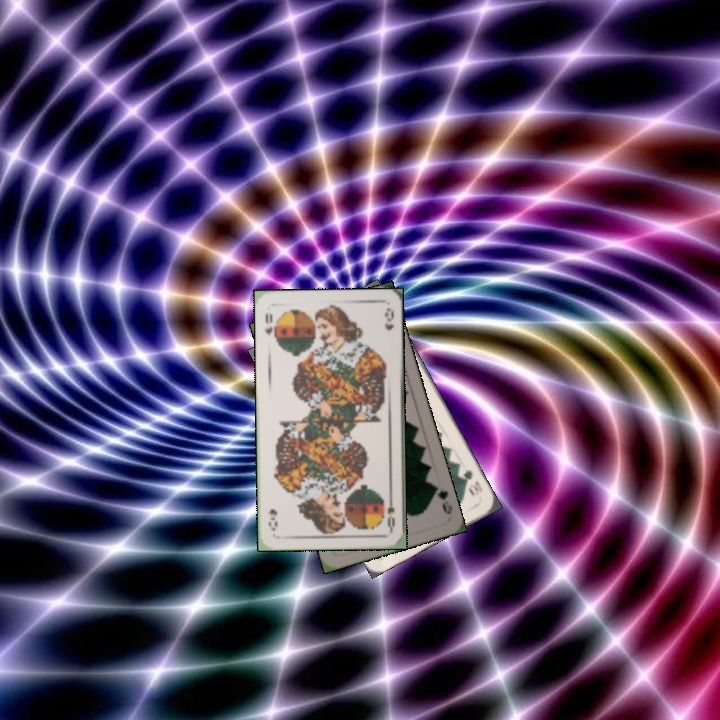G10: (459, 465, 485, 499)
G9: (428, 481, 455, 517)
SO: (383, 492, 397, 532), (261, 309, 278, 340)
